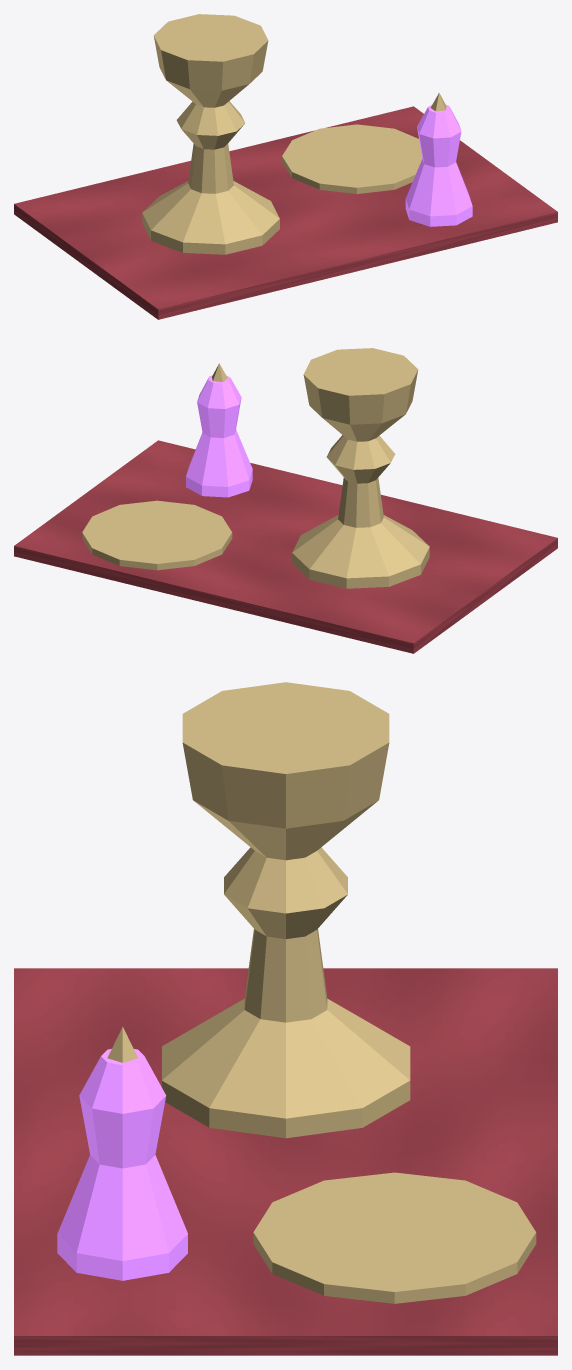
Rendered from vampire-crypt-and-gothic-cathedral-chalice-set-ef6a69ec__23016.glb.
The picture shows the model from 3 angles, top to bottom: view 1: azimuth 30°, elevation 25°; view 2: azimuth 150°, elevation 25°; view 3: azimuth 270°, elevation 25°; orthographic projection. The views are drawn at different scales.
Parts seen in each view (by area): view 1: chalice-set; view 2: chalice-set; view 3: chalice-set.
Boxes of the visible parts, x1,y1,x2,y2 form: chalice-set: (14, 14, 557, 319); chalice-set: (14, 348, 557, 653); chalice-set: (14, 682, 557, 1355).
Size of the model in its own units: 0.8 by 0.38 by 0.5.
3 materials, 1 textured.
